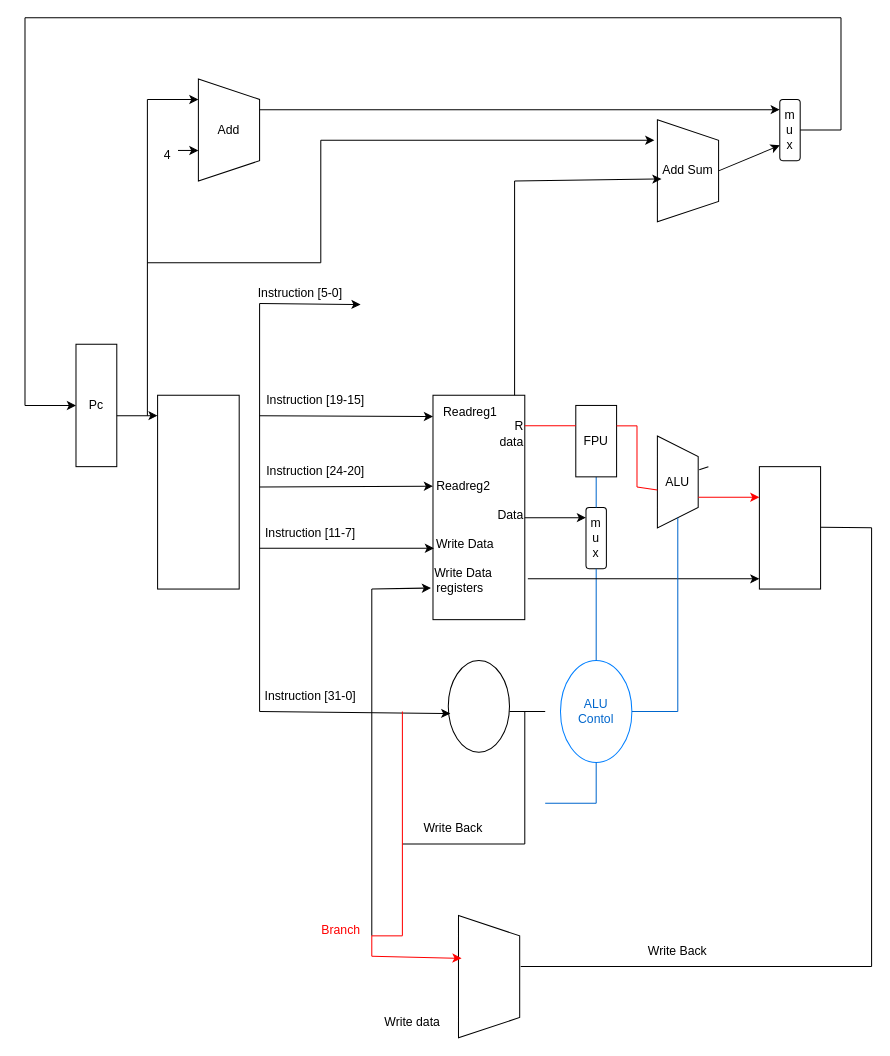
Some shapes in this 890 by 1056 pixel diagram are drawn without their labels. Each missing label, with the centre of its shape:
"Address Read Data Write Data" goes at pixel 789 527.
"Imm gen" goes at pixel 478 705.
"Read address Instruction [31-0] Read address" goes at pixel 198 491.
"Zero" goes at pixel 488 976.
